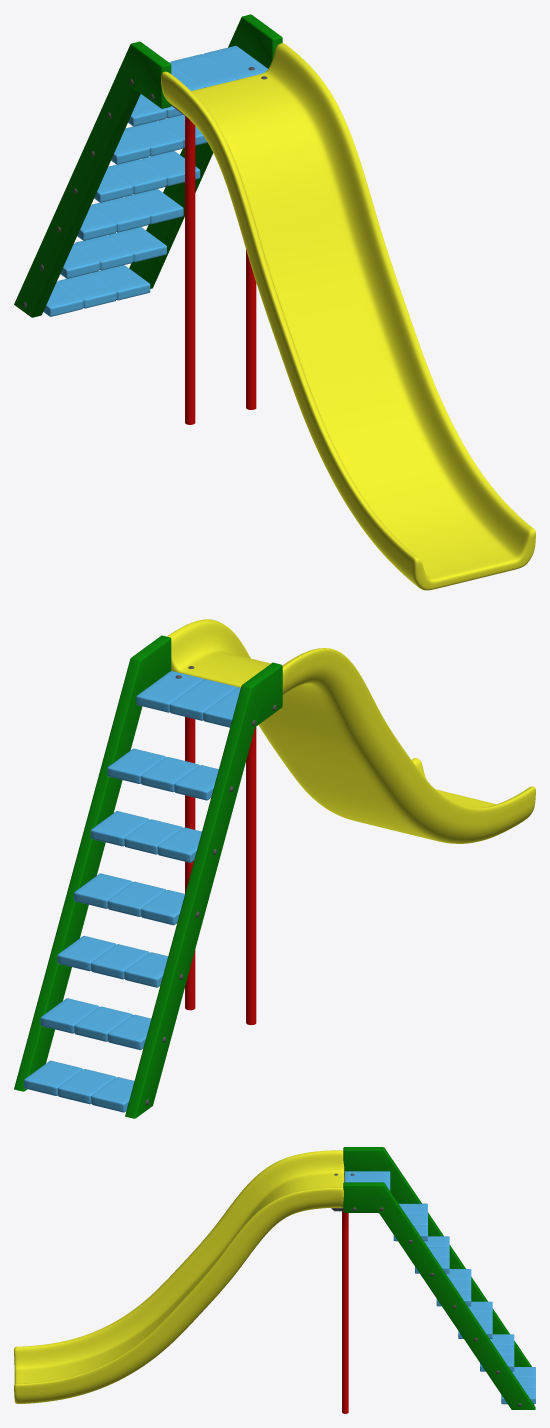
File: Slide.fbx
3 renders of one model, top to bottom at view 1: azimuth 30°, elevation 25°; view 2: azimuth 150°, elevation 25°; view 3: azimuth 270°, elevation 25°, orthographic. The views are drawn at different scales.
Visible parts, largest first — view 1: Slide; view 2: Slide; view 3: Slide.
Part boxes in pixels (bbox=[...]): Slide: bbox=[14, 14, 535, 590]; Slide: bbox=[14, 619, 535, 1118]; Slide: bbox=[14, 1147, 535, 1413].
Bounding box in the file's own units: 64.92 × 182 × 363.
